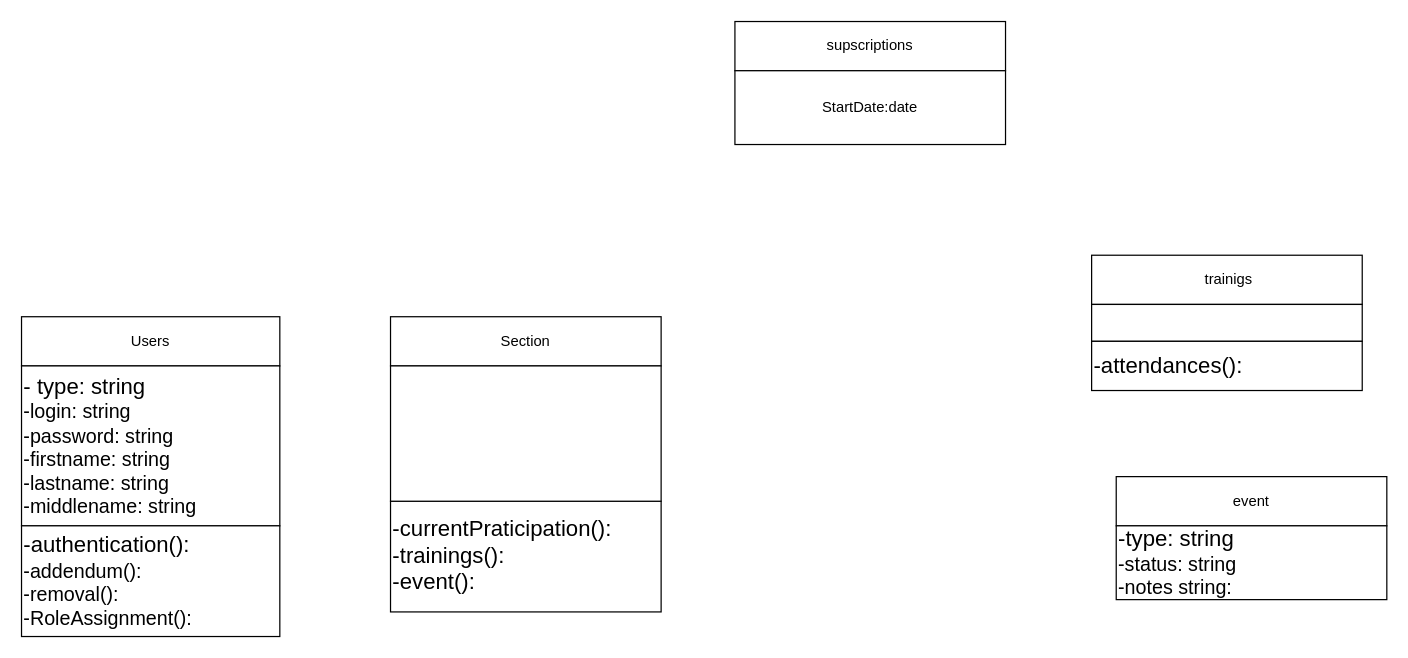
Image size: 1408x658. Some labels were removed from this diagram. Here are the shapes that lost their labels. From the top down, the centre of each, then its label:
At (1226,322): "-status: string".
At (525,433): "- type: string - coach:string -schedule: date -maxParticipants: uint".
